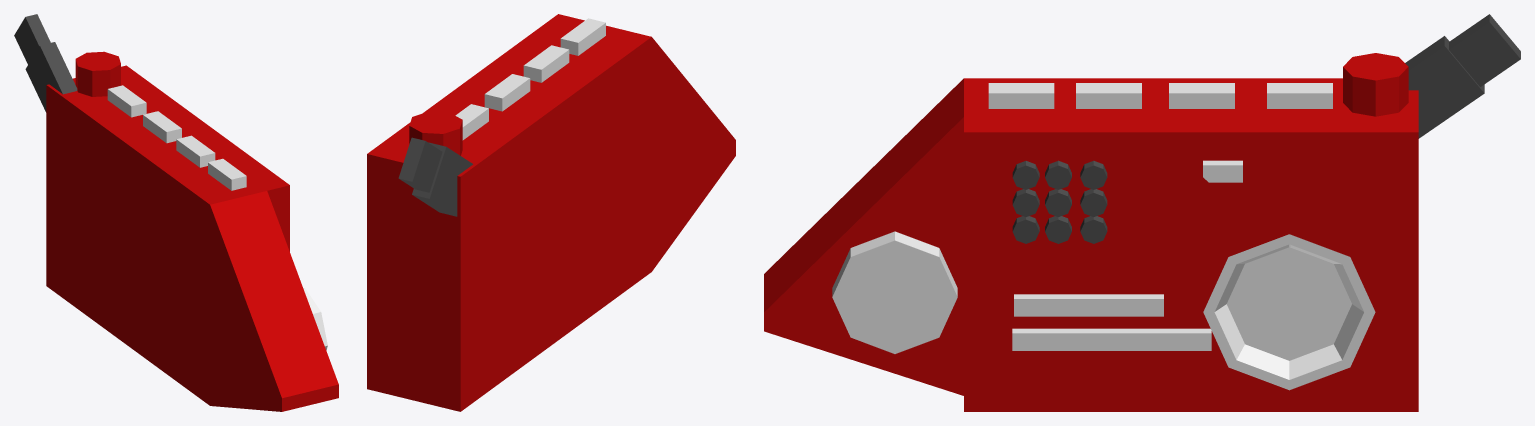
The model's file is Voicerecorder.fbx.
3 views of the same model, side by side, from view 1: azimuth 30°, elevation 25°; view 2: azimuth 150°, elevation 25°; view 3: azimuth 270°, elevation 25° (orthographic). The views are drawn at different scales.
Visible parts, largest first — view 1: pCube10; view 2: pCube10; view 3: pCube10.
Part boxes in pixels (bbox=[...]): pCube10: bbox=[14, 14, 338, 411]; pCube10: bbox=[367, 14, 735, 411]; pCube10: bbox=[764, 14, 1520, 411].
Size of the model in its own units: 0.1186 by 0.3064 by 0.606.
